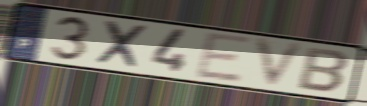3: (46, 14, 94, 64)
4: (150, 26, 192, 78)
B: (295, 45, 352, 95)
E: (193, 30, 254, 84)
V: (252, 36, 309, 92)
X: (93, 19, 151, 72)
